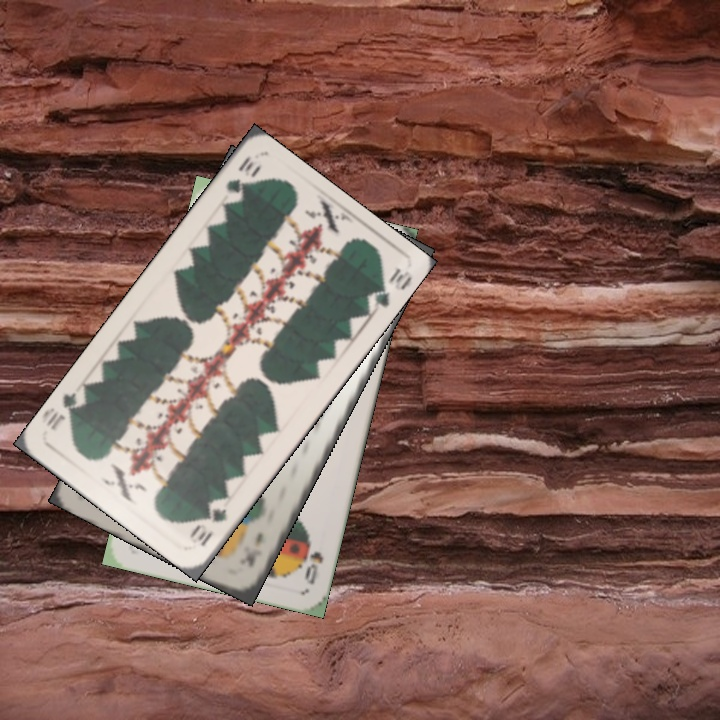EK: (242, 528, 266, 570)
G10: (221, 151, 264, 198), (186, 504, 230, 549)
SO: (300, 537, 326, 588)
